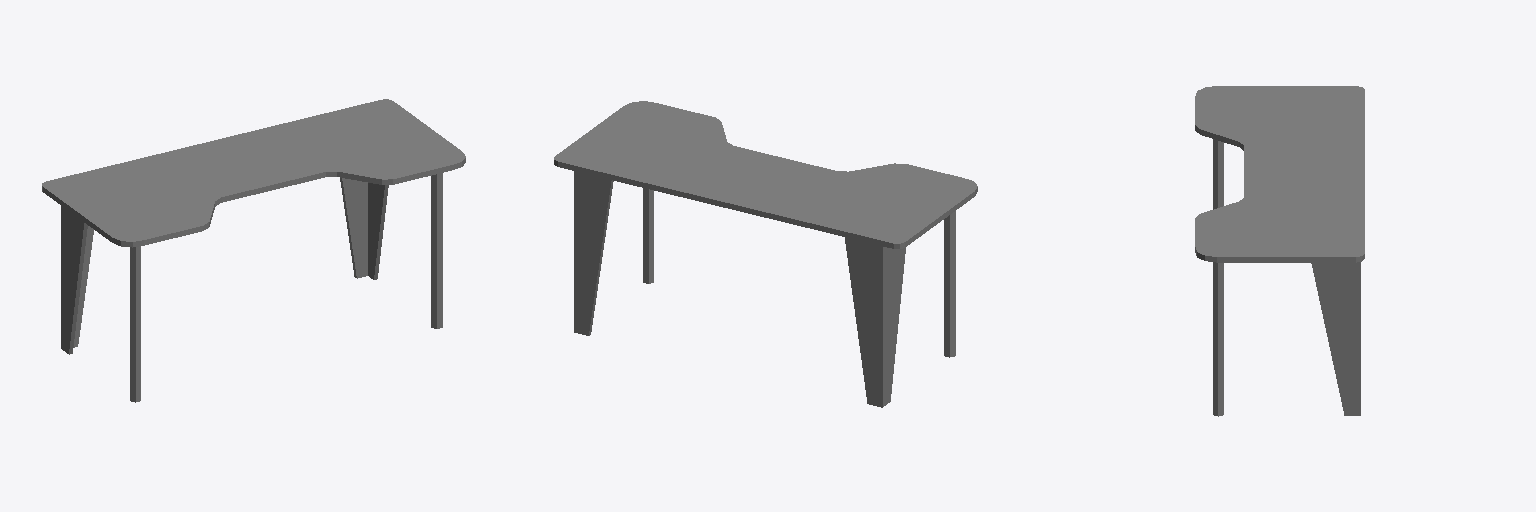
File: Mesa1.obj
3 renders of one model, left to right at view 1: azimuth 30°, elevation 25°; view 2: azimuth 150°, elevation 25°; view 3: azimuth 270°, elevation 25°, orthographic.
Parts seen in each view (by area): view 1: office_table_001; view 2: office_table_001; view 3: office_table_001.
Boxes of the visible parts, x1=… form: office_table_001: x1=42, y1=99, x2=465, y2=402; office_table_001: x1=554, y1=101, x2=977, y2=407; office_table_001: x1=1195, y1=86, x2=1364, y2=416.
Size of the model in its own units: 7.66 by 3.52 by 3.2.